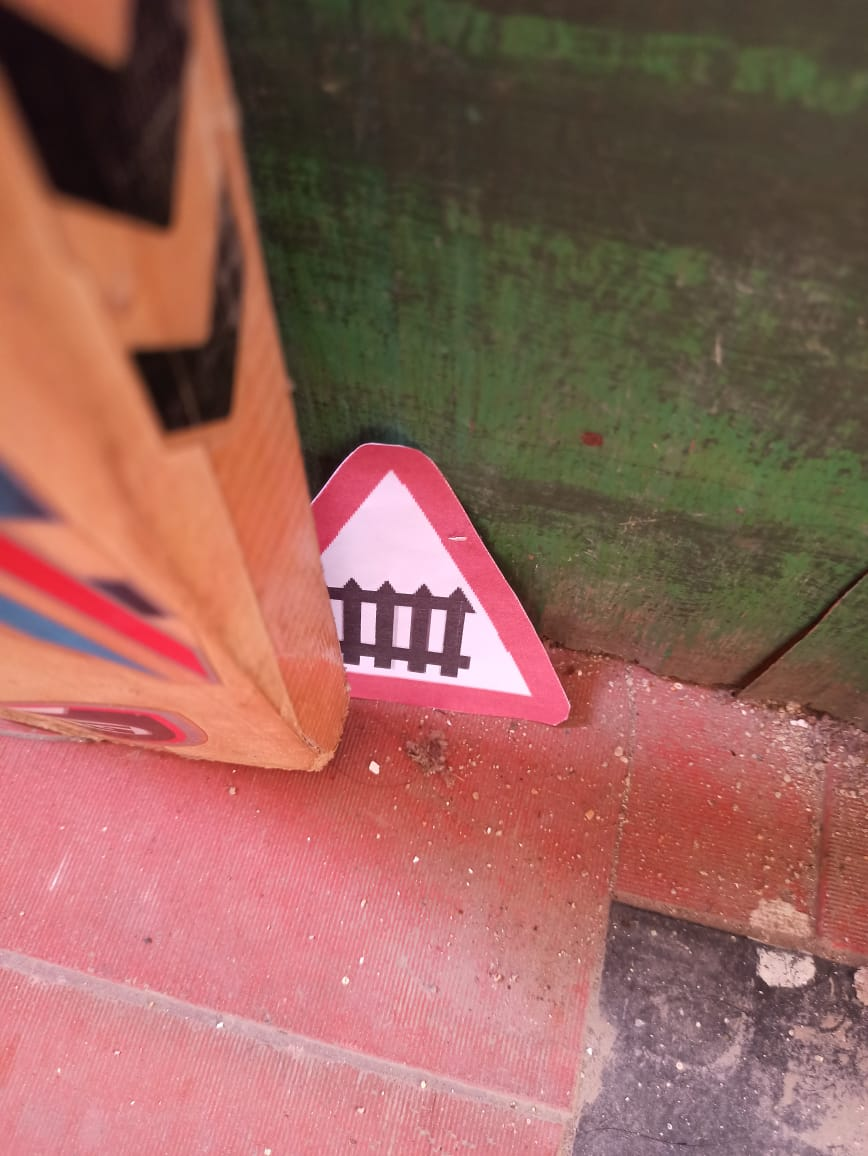GUARDED LEVEL CROSSING: (215, 440, 598, 740)
